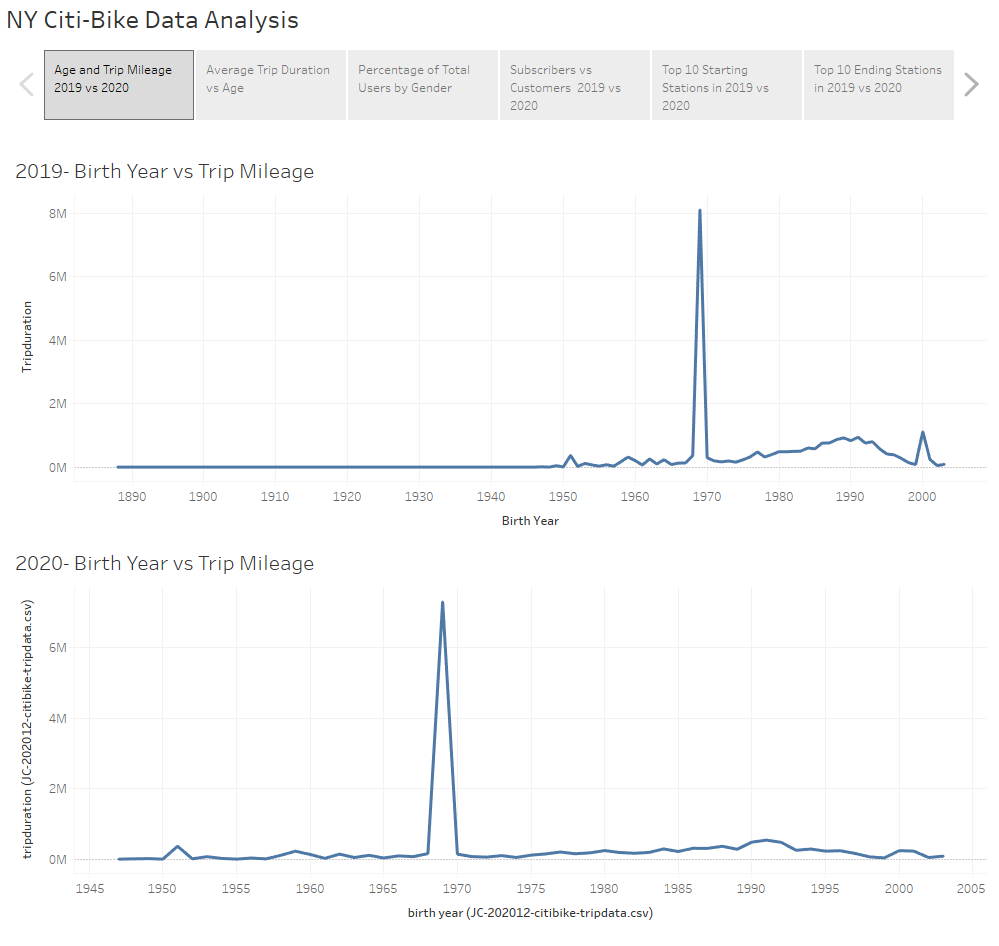

Layout of this report page (visuals, bound fields, positions):
{"tool":"tableau","page":{"name":"Dashboard-Age vs Trip Duration","canvas":[1000,800],"ordinal":1},"visuals":[{"type":"worksheet","box":[0,0,1000,800]},{"type":"worksheet","title":"2019-Birth Year/Trip Duration","mark":"Automatic","rows":["tripduration"],"cols":["birth year"],"box":[8,8,984,392]},{"type":"worksheet","title":"2020-Birth Year/Trip Duration","mark":"Automatic","rows":["tripduration (JC-202012-citibike-tripdata.csv)"],"cols":["birth year (JC-202012-citibike-tripdata.csv)"],"box":[8,400,984,392]}]}

Visuals, with their boxes on the page's 1000x800 design canvas (x1, y1, x2, y2). These are canvas units, not pixel positions in the 999x946 screenshot, which may show the page scaled, cropped or inside an application window:
worksheet: rect(0, 0, 1000, 800)
"2019-Birth Year/Trip Duration" worksheet: rect(8, 8, 992, 400)
"2020-Birth Year/Trip Duration" worksheet: rect(8, 400, 992, 792)
